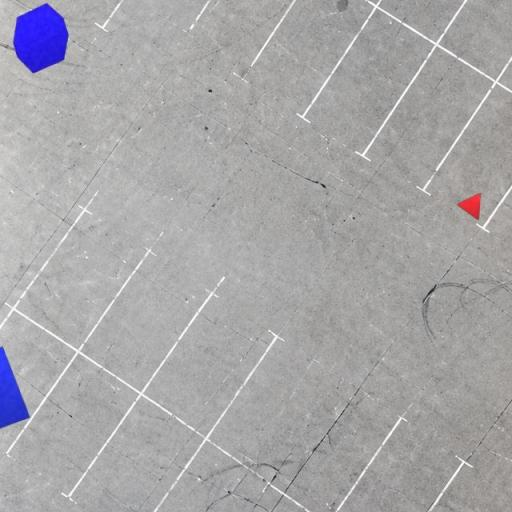BLUE_SQUARE: (0, 346, 31, 443)
